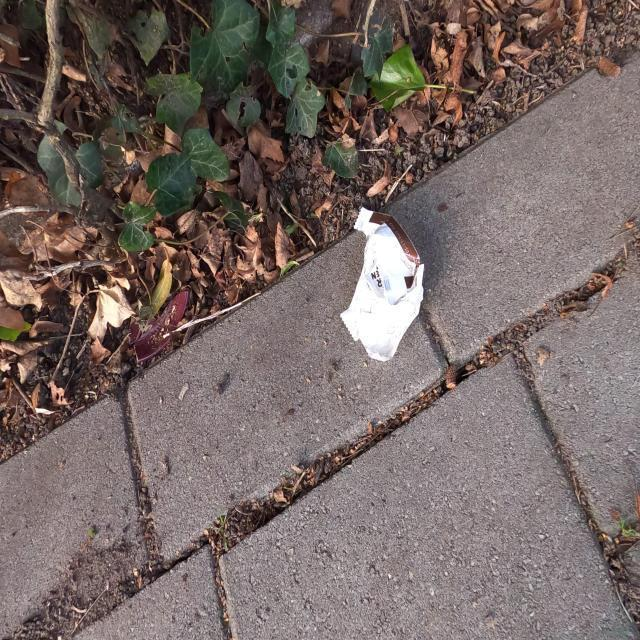Plastic: (339, 208, 426, 364)
